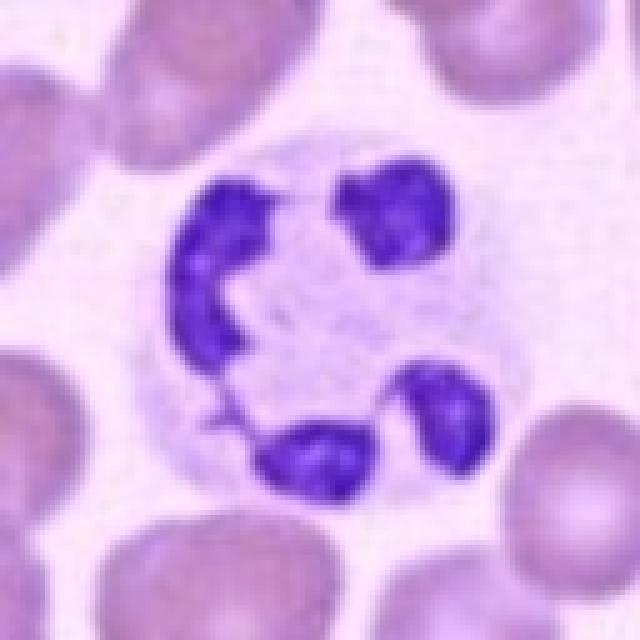neutro: (116, 118, 569, 453)
